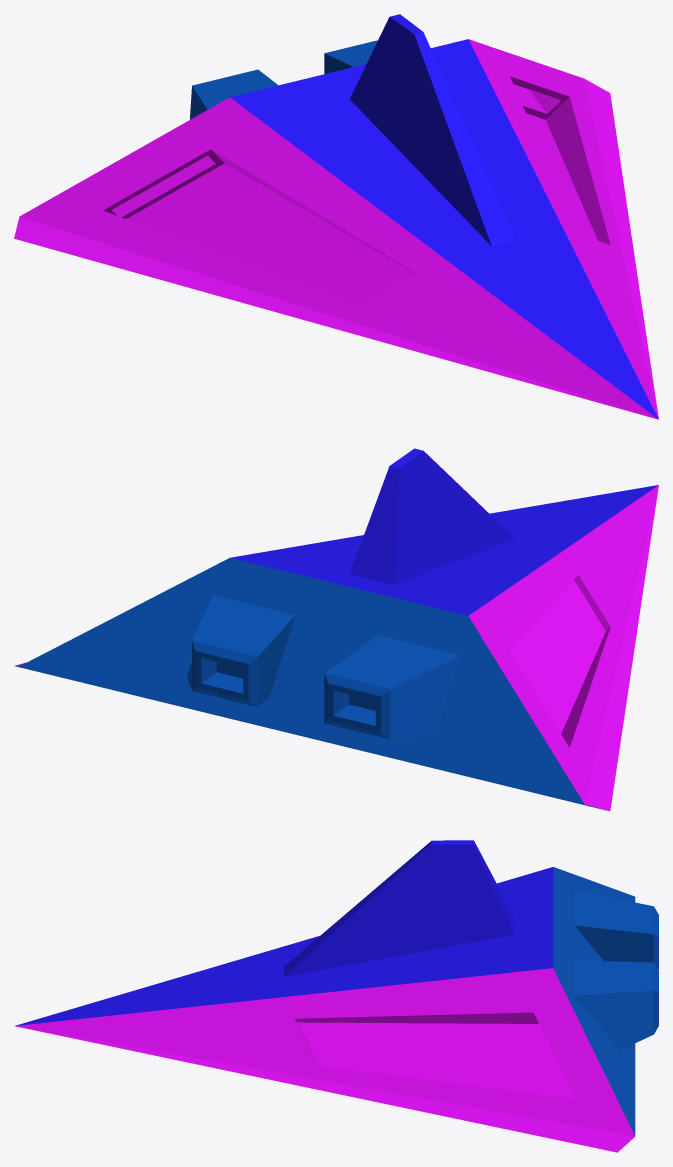
Rendered from Player_Enhanced.obj.
The picture shows the model from 3 angles, top to bottom: view 1: azimuth 30°, elevation 25°; view 2: azimuth 150°, elevation 25°; view 3: azimuth 270°, elevation 25°; orthographic projection. The views are drawn at different scales.
Visible parts, largest first — view 1: Plane; view 2: Plane; view 3: Plane.
Part boxes in pixels (x1,y1,x2,y2): Plane: [14, 14, 658, 419]; Plane: [15, 448, 658, 811]; Plane: [14, 840, 658, 1152].
Bounding box in the file's own units: 2 × 0.7314 × 2.15.
